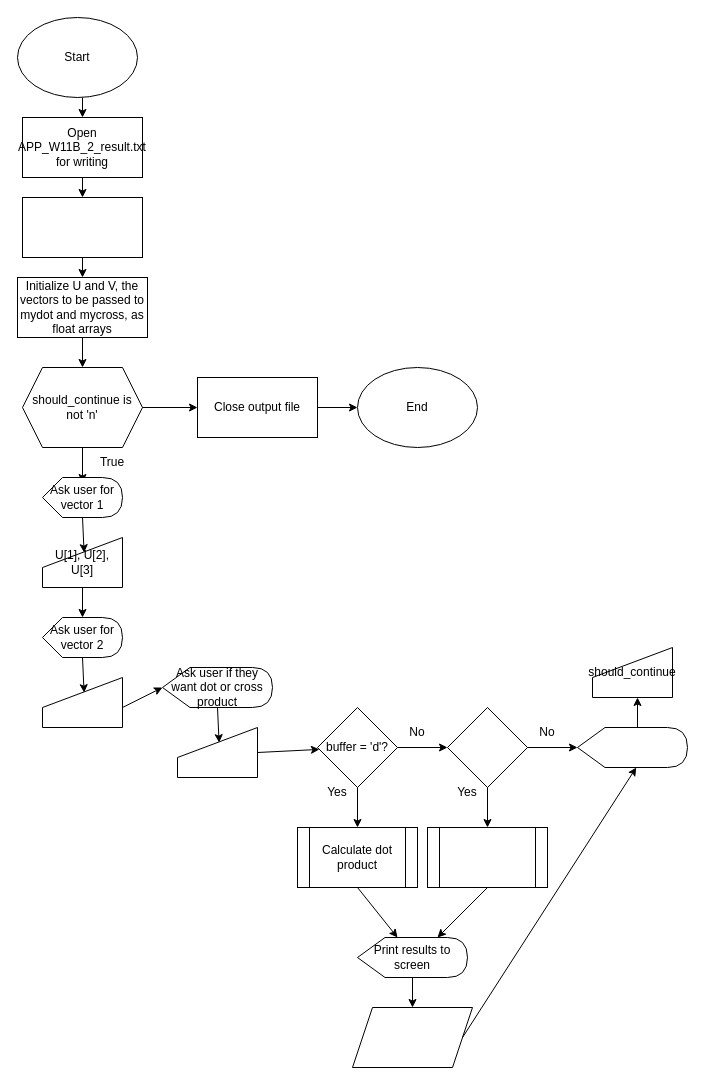
Some shapes in this 705 by 1085 pixel diagram are drawn without their labels. The shapes that lost their labels are listed below. From the top down, each one's box as (x1, y1, x2, y2) in pixels, then its label:
(22, 196, 142, 258): Initialize should_continue to 'y', define char buffer
(42, 676, 122, 728): V[1], V[2], V[3]
(176, 726, 258, 778): buffer
(446, 706, 528, 788): buffer = 'c'?
(576, 726, 688, 768): Ask whether to continue (y/n)
(426, 826, 548, 888): Calculate cross product
(352, 1006, 472, 1068): Print results to APP_W11B_2_result.txt
